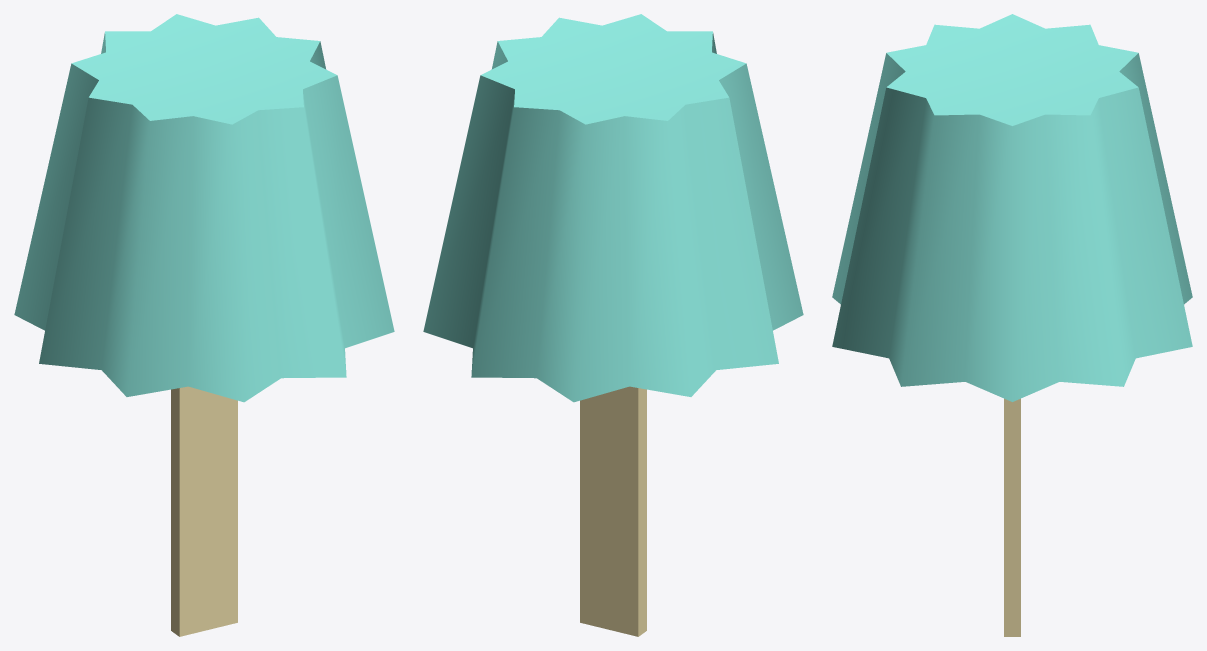
File: Ice.fbx
3 renders of one model, left to right at view 1: azimuth 30°, elevation 25°; view 2: azimuth 150°, elevation 25°; view 3: azimuth 270°, elevation 25°, orthographic.
Parts seen in each view (by area): view 1: pCylinder1, pCube1; view 2: pCylinder1, pCube1; view 3: pCylinder1, pCube1.
Boxes of the visible parts, bbox=[...] form: pCylinder1: bbox=[14, 14, 394, 402]; pCube1: bbox=[171, 386, 237, 636]; pCylinder1: bbox=[423, 14, 803, 402]; pCube1: bbox=[580, 386, 646, 636]; pCylinder1: bbox=[832, 14, 1192, 401]; pCube1: bbox=[1004, 398, 1020, 636].
Bounding box in the file's own units: 2.05 × 3.29 × 1.95.
